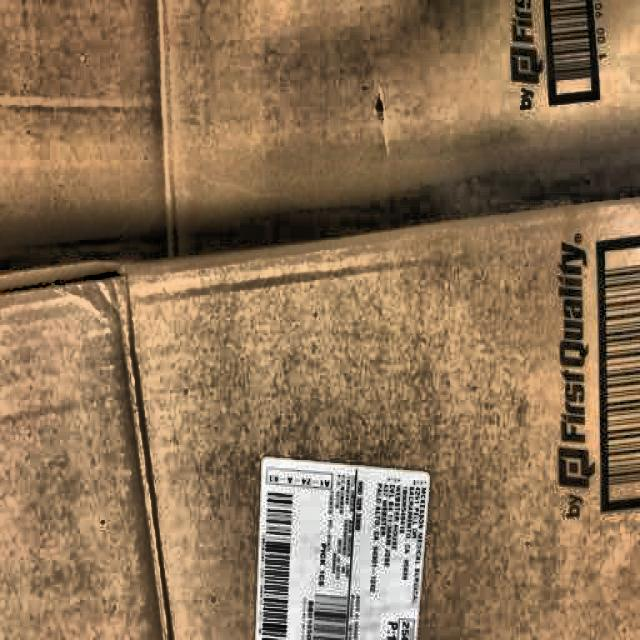cardboard: (4, 3, 640, 630)
